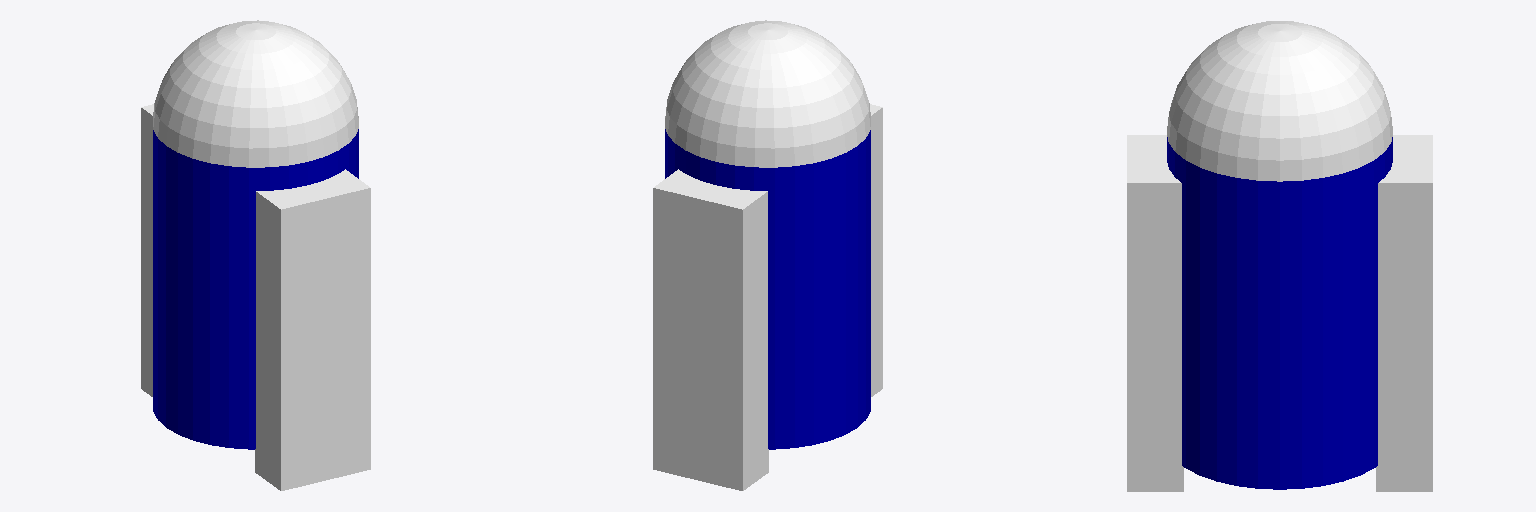
URDF robot description (materials):
<?xml version="1.0"?>
<robot name="materials">

  <material name="blue">
    <color rgba="0 0 0.8 1"/>
  </material>

  <material name="white">
    <color rgba="1 1 1 1"/>
  </material>

  <link name="base_link">
    <visual>
      <geometry>
        <cylinder length="0.6" radius="0.2"/>
      </geometry>
      <material name="blue"/>
    </visual>
    <collision>
      <geometry>
        <cylinder length="0.6" radius="0.2"/>
      </geometry>
    </collision>
  </link>

  <link name="right_leg">
    <visual>
      <geometry>
        <box size="0.6 0.1 0.2"/>
      </geometry>
      <origin rpy="0 1.57075 0" xyz="0 0 -0.3"/>
      <material name="white"/>
    </visual>
    <collision>
      <geometry>
        <box size="0.6 0.1 0.2"/>
      </geometry>
      <origin rpy="0 1.57075 0" xyz="0 0 -0.3"/>
    </collision>
  </link>

  <joint name="base_to_right_leg" type="fixed">
    <parent link="base_link"/>
    <child link="right_leg"/>
    <origin xyz="0 -0.22 0.25"/>
  </joint>

  <link name="left_leg">
    <visual>
      <geometry>
        <box size="0.6 0.1 0.2"/>
      </geometry>
      <origin rpy="0 1.57075 0" xyz="0 0 -0.3"/>
      <material name="white"/>
    </visual>
    <collision>
      <geometry>
        <box size="0.6 0.1 0.2"/>
      </geometry>
      <origin rpy="0 1.57075 0" xyz="0 0 -0.3"/>
    </collision>
  </link>

  <joint name="base_to_left_leg" type="fixed">
    <parent link="base_link"/>
    <child link="left_leg"/>
    <origin xyz="0 0.22 0.25"/>
  </joint>

  <link name="head">
    <visual>
      <geometry>
        <sphere radius="0.2"/>
      </geometry>
      <material name="white"/>
    </visual>
    <collision>
      <geometry>
        <sphere radius="0.2"/>
      </geometry>
    </collision>
  </link>
  <joint name="head_swivel" type="fixed">
    <parent link="base_link"/>
    <child link="head"/>
    <origin xyz="0 0 0.3"/>
  </joint>
</robot>

--- What the picture shows (computed from the rendered views, not written in the file) ---
The picture shows the robot from 3 angles, left to right: view 1: azimuth 30°, elevation 25°; view 2: azimuth 150°, elevation 25°; view 3: azimuth 270°, elevation 25°; orthographic projection.
Robot: materials — 4 links, 3 joints (3 fixed); root link base_link; default pose: every joint at zero.
Visible links, largest first — view 1: right_leg, base_link, head, left_leg; view 2: left_leg, base_link, head, right_leg; view 3: base_link, head, right_leg, left_leg.
Link boxes in pixels (bbox=[...]): right_leg: bbox=[255, 169, 370, 490]; base_link: bbox=[153, 129, 358, 449]; head: bbox=[153, 20, 358, 167]; left_leg: bbox=[141, 104, 153, 396]; left_leg: bbox=[653, 169, 768, 490]; base_link: bbox=[665, 129, 870, 449]; head: bbox=[665, 20, 870, 167]; right_leg: bbox=[870, 104, 882, 396]; base_link: bbox=[1167, 137, 1392, 489]; head: bbox=[1167, 21, 1392, 181]; right_leg: bbox=[1127, 135, 1183, 491]; left_leg: bbox=[1376, 135, 1432, 491].
Size in the robot's own frame: 0.4 by 0.54 by 0.85 metres.
Geometry: primitives only (box / cylinder / sphere), no mesh files.